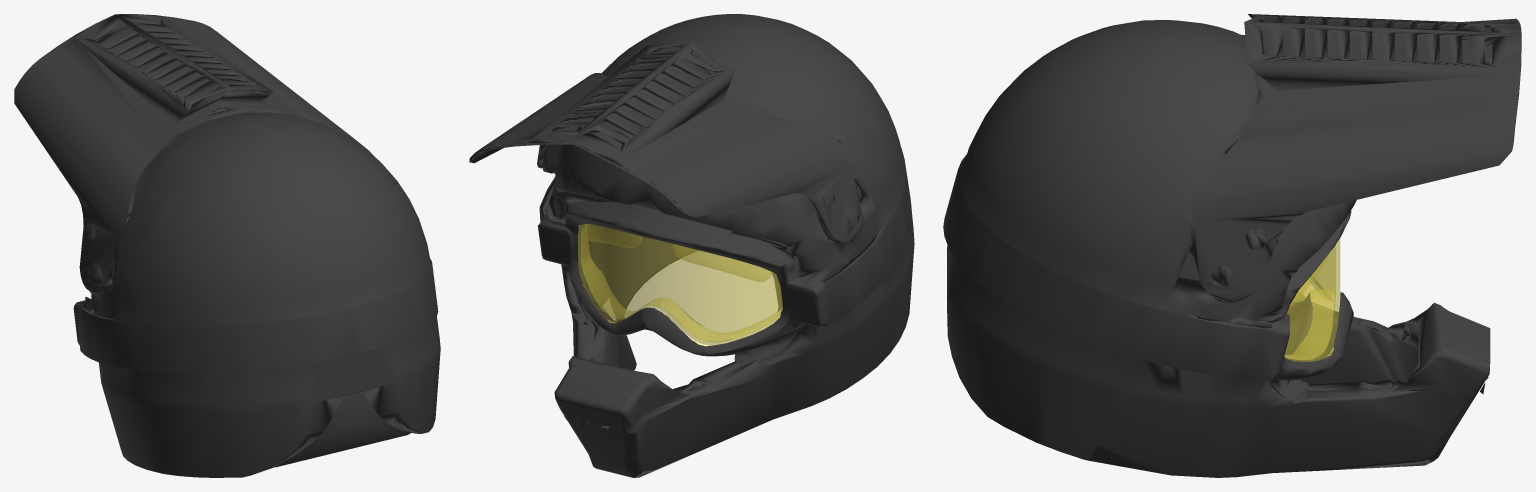
The model's file is rider_helmet.glb.
3 views of the same model, side by side, from view 1: azimuth 30°, elevation 25°; view 2: azimuth 150°, elevation 25°; view 3: azimuth 270°, elevation 25° (orthographic). The views are drawn at different scales.
Parts seen in each view (by area): view 1: shell; view 2: shell, lens; view 3: shell, lens.
Boxes of the visible parts, x1,y1,x2,y2 form: shell: [14, 14, 440, 477]; shell: [469, 14, 914, 477]; lens: [577, 224, 782, 346]; shell: [943, 14, 1521, 477]; lens: [1284, 238, 1340, 361].
Bounding box in the file's own units: 18.5 × 21.1 × 25.54.
